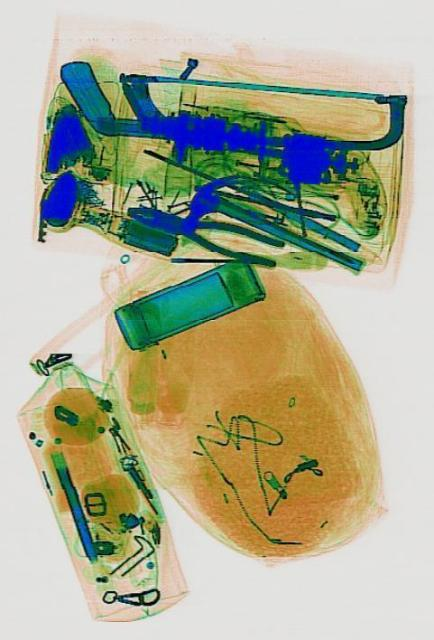Pliers: (122, 192, 282, 270)
